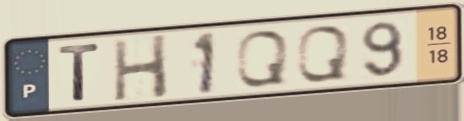1: (190, 28, 220, 95)
9: (358, 18, 411, 80)
H: (110, 31, 171, 104)
Q: (233, 27, 292, 89), (294, 23, 352, 84)
T: (56, 41, 103, 104)
